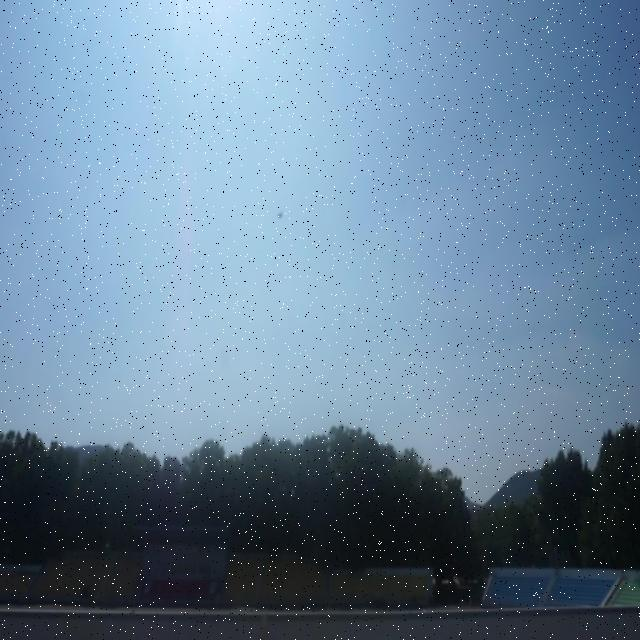UAV: (277, 211, 283, 219)
